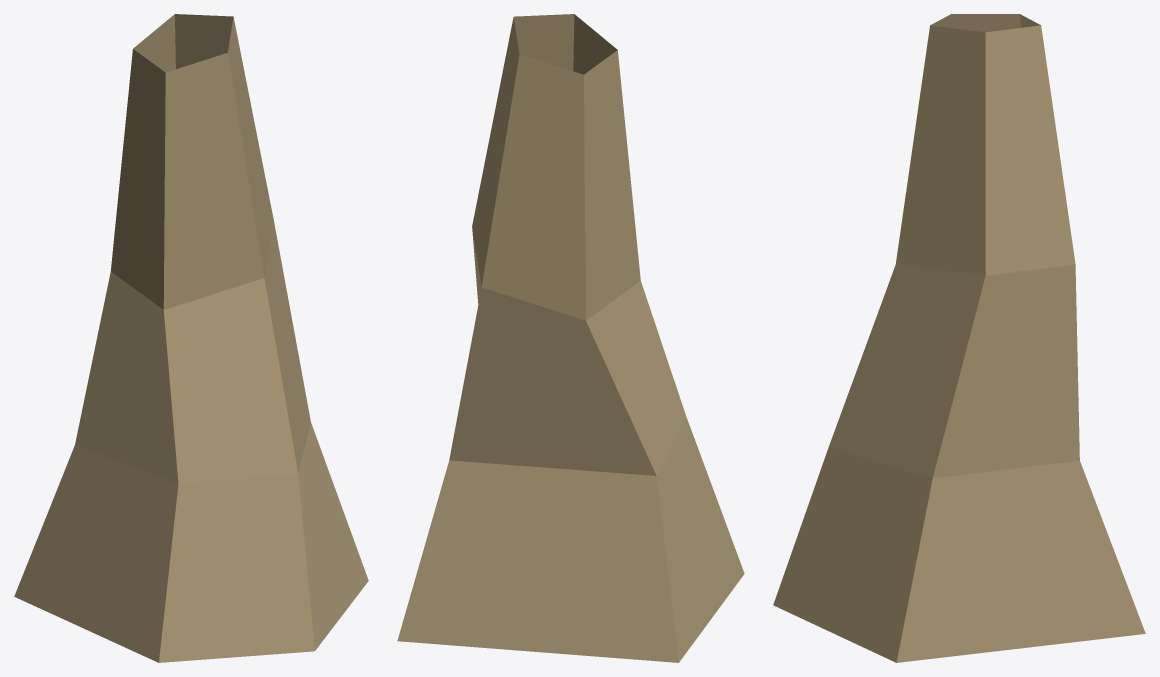
File: Bark2.fbx
The picture shows the model from 3 angles, left to right: view 1: azimuth 30°, elevation 25°; view 2: azimuth 150°, elevation 25°; view 3: azimuth 270°, elevation 25°; orthographic projection. The views are drawn at different scales.
Parts seen in each view (by area): view 1: Cylinder007; view 2: Cylinder007; view 3: Cylinder007.
Part boxes in pixels (x1,y1,x2,y2): Cylinder007: [14, 14, 368, 662]; Cylinder007: [397, 14, 744, 662]; Cylinder007: [773, 14, 1145, 662].
Size of the model in its own units: 31.54 by 59.37 by 34.38.
